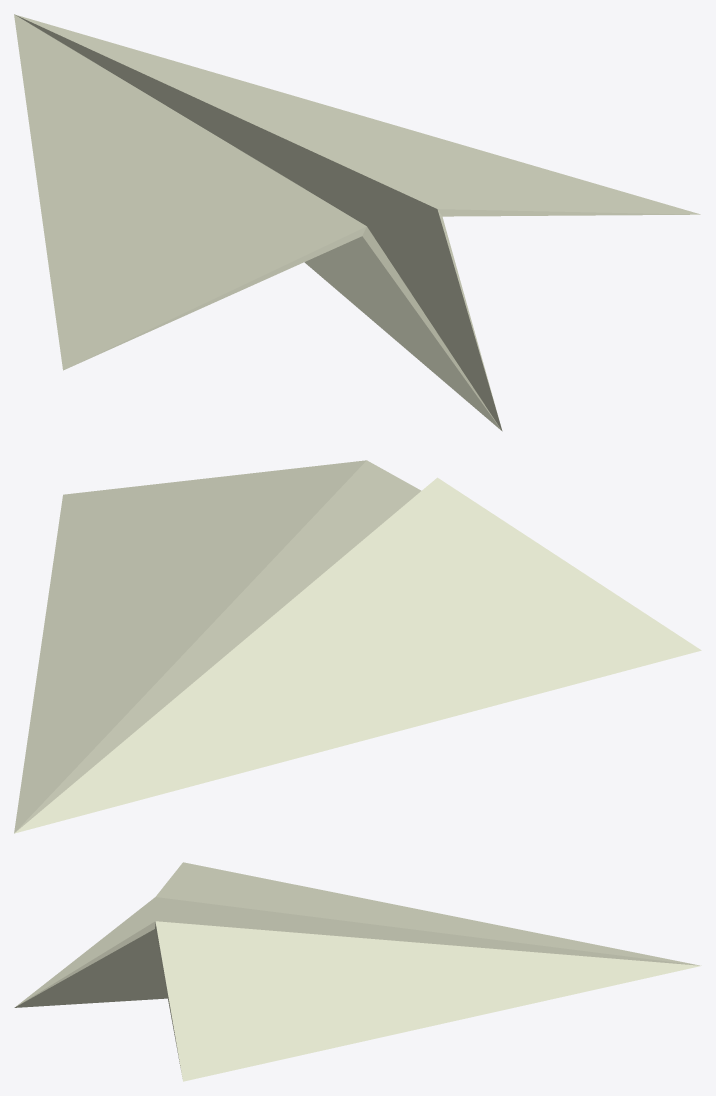
Rendered from PaperPlane.fbx.
The picture shows the model from 3 angles, top to bottom: view 1: azimuth 30°, elevation 25°; view 2: azimuth 150°, elevation 25°; view 3: azimuth 270°, elevation 25°; orthographic projection. The views are drawn at different scales.
Parts seen in each view (by area): view 1: Plane; view 2: Plane; view 3: Plane.
Boxes of the visible parts, x1,y1,x2,y2 form: Plane: [14, 14, 700, 431]; Plane: [14, 460, 701, 833]; Plane: [14, 862, 701, 1081].
Size of the model in its own units: 212 by 44.6 by 281.
